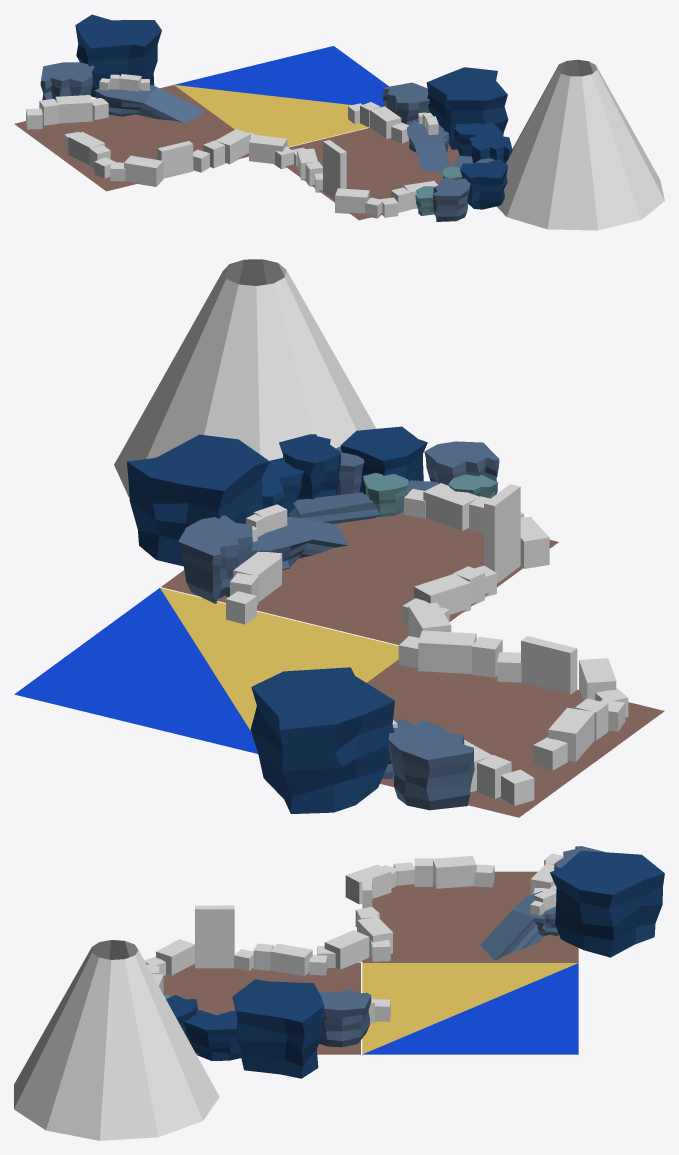
The model's file is Teste_Cidade.fbx.
3 renders of one model, top to bottom at view 1: azimuth 30°, elevation 25°; view 2: azimuth 150°, elevation 25°; view 3: azimuth 270°, elevation 25°, orthographic. The views are drawn at different scales.
Parts seen in each view (by area): view 1: Cone, Chão.003, Chão.005, Chão.006, Pedra_grande.002, Pedra_grande.001, Pedra_media.003, Pedra_grande, Pedra_media.001, Pedra_media.002, Pedra_media.004, Pedra_media.006 (+21 smaller); view 2: Chão.003, Cone, Chão.006, Pedra_grande.002, Chão.005, Pedra_grande.001, Pedra_media.001, Pedra_media.004, Pedra_grande, Cube.026, Pedra_grande.003, Pedra_media.002 (+20 smaller); view 3: Cone, Chão.003, Chão.005, Pedra_grande.002, Pedra_grande.001, Chão.006, Pedra_media.003, Cube.026, Pedra_media.004, Pedra_media.005, Cube.034, Cube.039 (+9 smaller).
Boxes of the visible parts, x1,y1,x2,y2 form: Cone: (497, 59, 664, 230); Chão.003: (174, 46, 388, 146); Chão.005: (14, 85, 248, 191); Chão.006: (285, 127, 459, 220); Pedra_grande.002: (75, 14, 161, 97); Pedra_grande.001: (426, 67, 508, 149); Pedra_media.003: (94, 85, 204, 122); Pedra_grande: (460, 159, 507, 209); Pedra_media.001: (40, 62, 94, 100); Pedra_media.002: (407, 121, 450, 173); Pedra_media.004: (383, 82, 429, 125); Pedra_media.006: (433, 177, 470, 221); Chão.003: (14, 588, 398, 753); Cone: (114, 259, 376, 497); Chão.006: (161, 494, 558, 644); Pedra_grande.002: (250, 667, 394, 813); Chão.005: (367, 659, 664, 817); Pedra_grande.001: (127, 434, 269, 566); Pedra_media.001: (388, 720, 474, 810); Pedra_media.004: (178, 515, 252, 603); Pedra_grande: (340, 426, 427, 494); Cube.026: (484, 484, 520, 583); Pedra_grande.003: (279, 434, 340, 499); Pedra_media.002: (249, 516, 348, 569); Cone: (14, 940, 219, 1140); Chão.003: (362, 963, 578, 1054); Chão.005: (362, 871, 578, 962); Pedra_grande.002: (550, 850, 664, 957); Pedra_grande.001: (232, 979, 324, 1078); Chão.006: (163, 963, 360, 1054); Pedra_media.003: (480, 891, 558, 960); Cube.026: (195, 905, 234, 968); Pedra_media.004: (319, 989, 371, 1047); Pedra_media.005: (183, 1010, 241, 1060); Cube.034: (433, 856, 476, 888); Cube.039: (324, 930, 369, 969).
Size of the model in its own units: 276 by 79.45 by 301.
